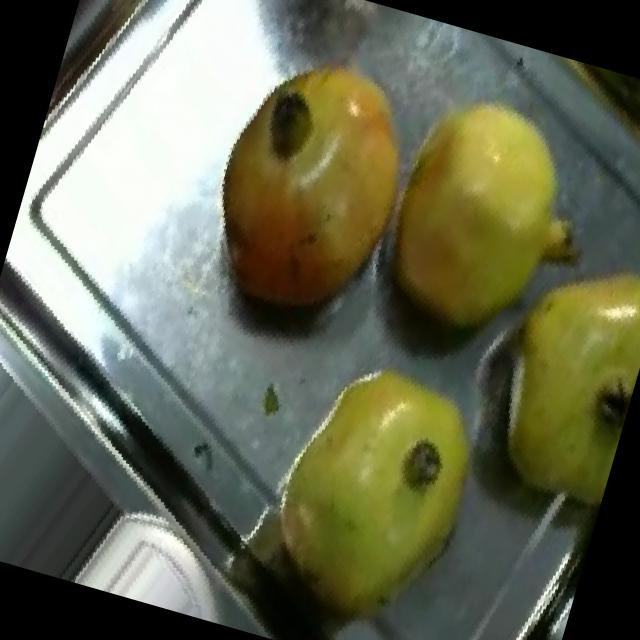fruit: (152, 14, 456, 366), (220, 309, 536, 640)
